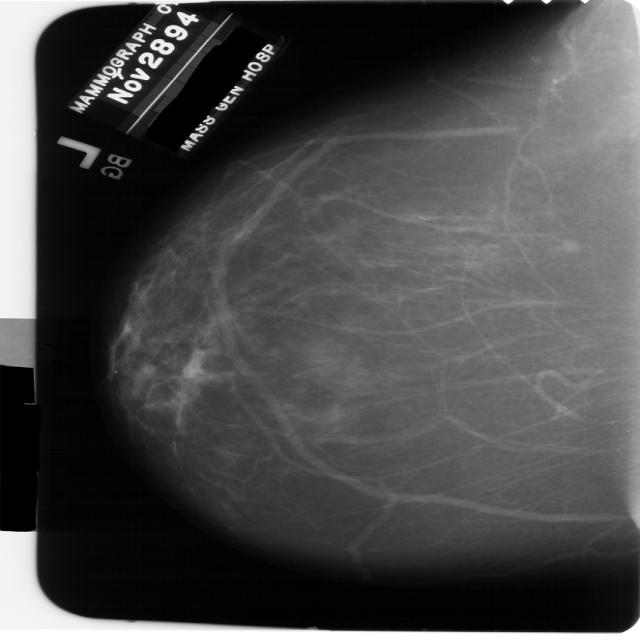tumour: (559, 239, 580, 254)
